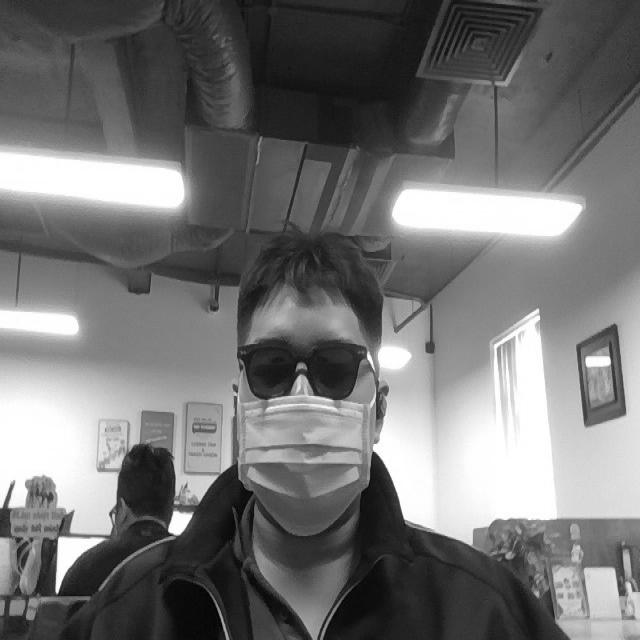fake: (235, 391, 372, 540), (232, 335, 374, 398)
